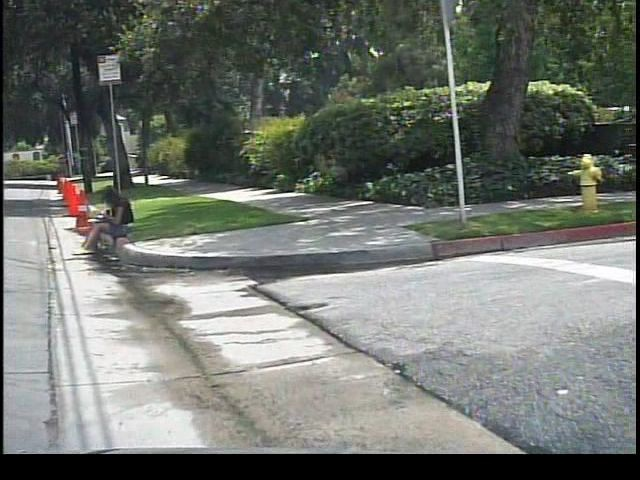person: (75, 184, 144, 258)
